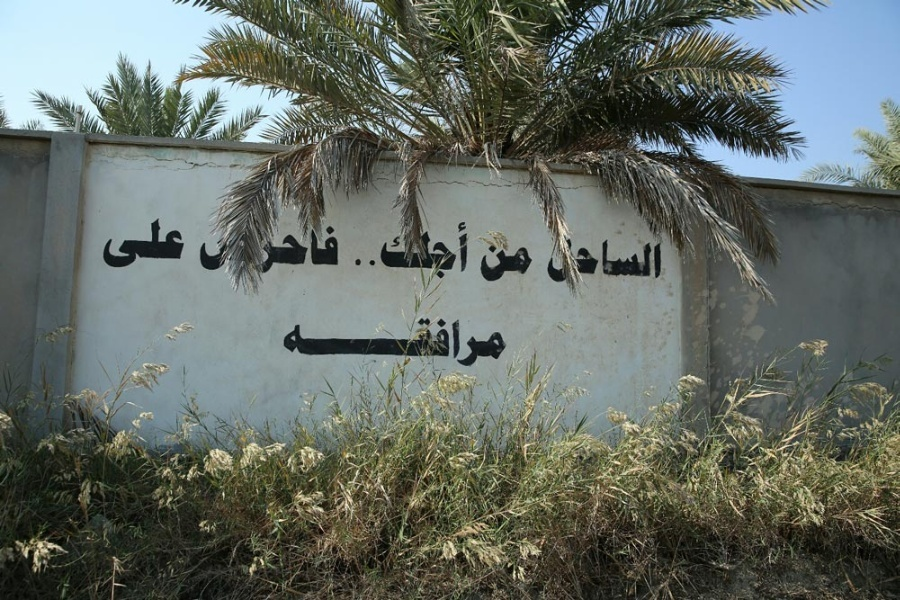text: (209, 218, 224, 280), (225, 218, 240, 280), (241, 218, 256, 280), (257, 218, 272, 280), (273, 218, 288, 280), (289, 218, 304, 280), (305, 218, 320, 280), (321, 218, 336, 280), (353, 218, 368, 279), (369, 218, 384, 279), (385, 218, 400, 279), (401, 218, 416, 279), (417, 218, 432, 279), (433, 218, 448, 279), (449, 218, 464, 279), (113, 215, 128, 270), (129, 215, 144, 270), (145, 215, 160, 270), (161, 215, 176, 270), (561, 235, 576, 287), (577, 235, 592, 287), (593, 235, 608, 287), (609, 235, 624, 287), (625, 235, 640, 287), (641, 235, 656, 287), (289, 317, 304, 368), (305, 317, 320, 368), (321, 317, 336, 368), (337, 317, 352, 368), (353, 317, 368, 368), (369, 317, 384, 368), (385, 317, 400, 368), (401, 317, 416, 368), (417, 317, 432, 368), (433, 317, 448, 368), (449, 317, 464, 368), (465, 317, 480, 368), (481, 317, 496, 368), (547, 235, 560, 287), (497, 317, 510, 368), (497, 244, 512, 282), (513, 244, 528, 282), (102, 215, 112, 270), (177, 215, 187, 270), (657, 235, 667, 287), (484, 244, 496, 282), (201, 218, 208, 280), (465, 218, 472, 279), (337, 218, 343, 280), (281, 317, 288, 368), (529, 244, 534, 282)
